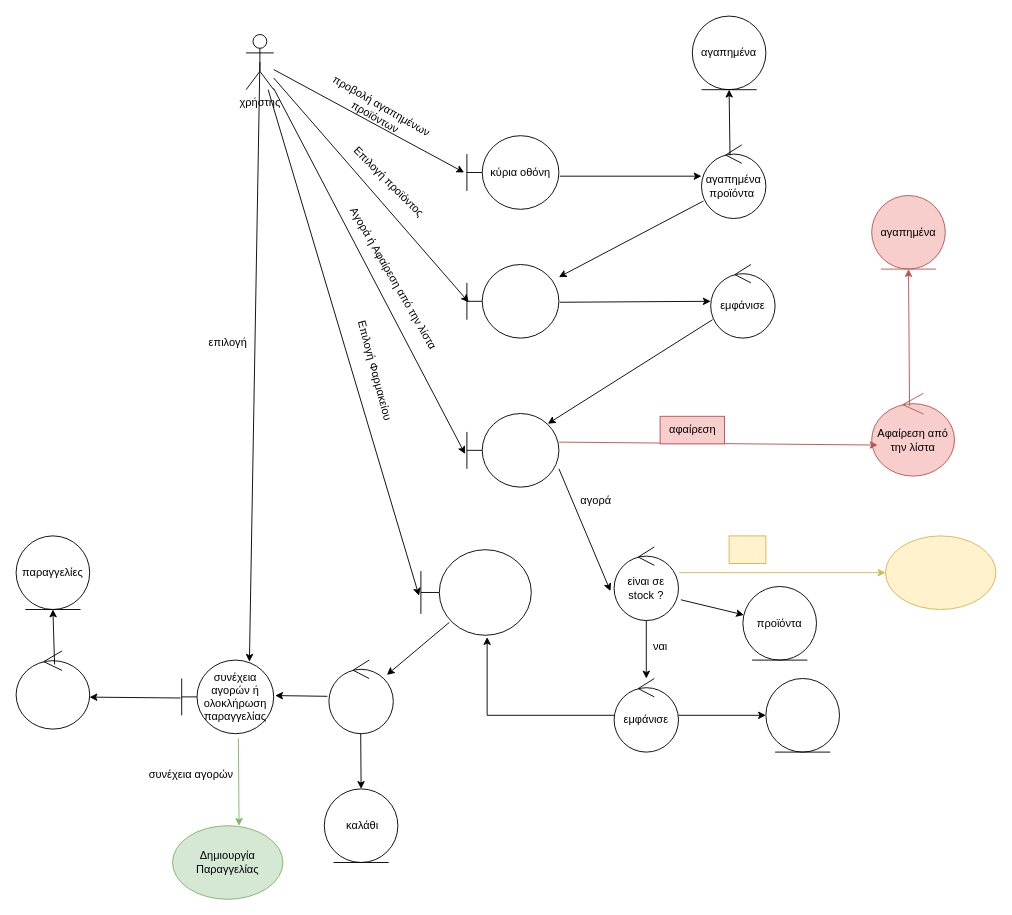
The diagram is 1012 pixels wide and 915 high, and some of its shapes have lost their labels. Each missing label, with the centre of its shape:
"Αγορά ή Αφαίρεση απο την λίστα" goes at (x=512, y=450).
"καταχώριση παραγγελίας" goes at (x=52, y=689).
"λίστα με αγαπημένα προϊόντα" goes at (x=512, y=301).
"οθόνη με τα φαρμακεία που ειναι διαθέσιμο το προϊόν" goes at (x=475, y=592).
"οχι" goes at (x=747, y=549).
"Προβολή εναλλακτικών προϊόντων για προϊόντα που είναι out of stock" goes at (x=940, y=572).
"προσθήκη στο καλάθι" goes at (x=360, y=696).
"φαρμακεία" goes at (x=802, y=715).
